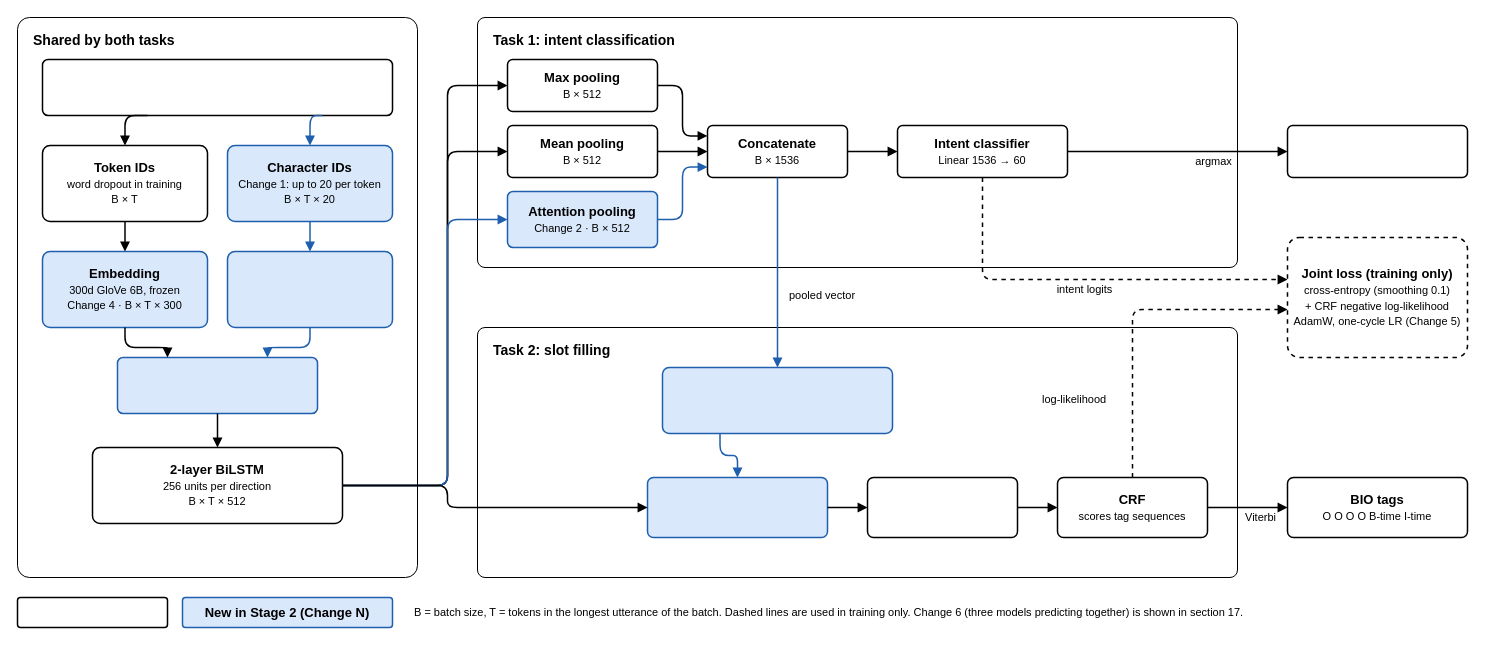
This 1490x646 diagram has some shape labels left out. Here are the shapes that lost their labels. From the top down, the centre of each, then its label:
At point (217, 87): "Input utterance wake me up at nine am".
At point (1377, 151): "Intent alarm_set".
At point (309, 289): "Character CNN Change 1: 100 filters B × T × 100".
At point (217, 385): "Concatenate Change 1 · B × T × 400".
At point (777, 400): "Utterance context Change 3: Linear 1536 → 512, tanh B × 512".
At point (737, 507): "Concatenate Change 3 · B × T × 1024".
At point (942, 507): "Slot classifier Linear 1024 → 111".
At point (92, 612): "Same as Stage 1".
